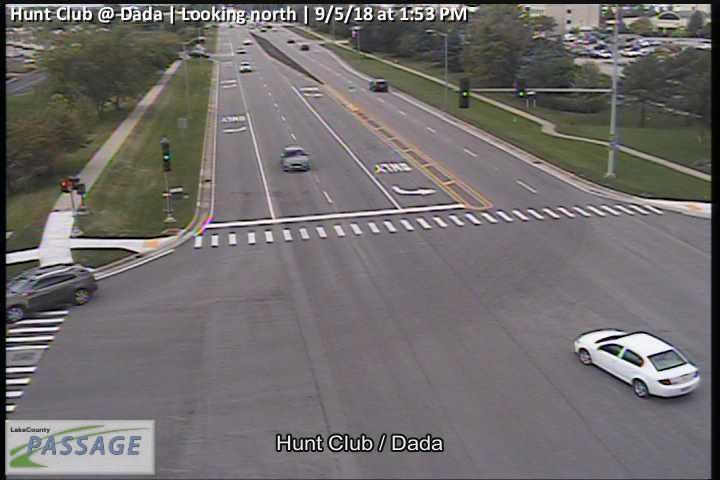Sedan: (573, 328, 701, 400), (5, 262, 99, 324), (280, 147, 310, 172), (370, 78, 388, 92), (240, 61, 252, 73), (301, 44, 310, 51)
